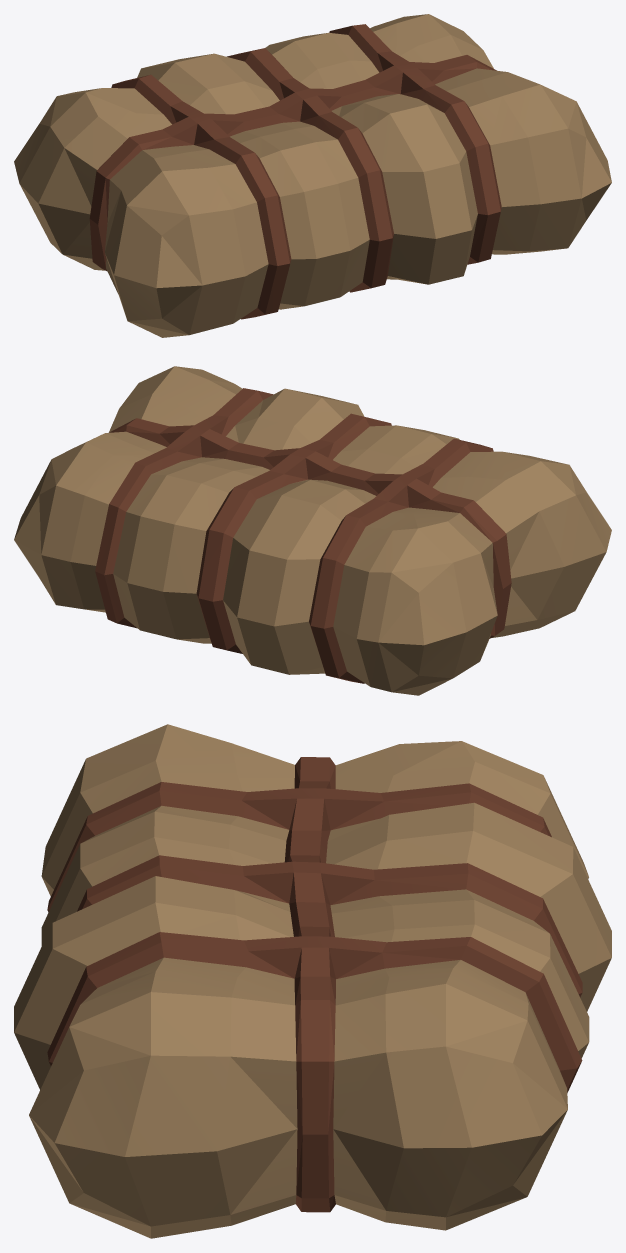
Rendered from Pan.glb.
3 renders of one model, top to bottom at view 1: azimuth 30°, elevation 25°; view 2: azimuth 150°, elevation 25°; view 3: azimuth 270°, elevation 25°, orthographic. The views are drawn at different scales.
Visible parts, largest first — view 1: SM_Prop_Fur_Roll_03; view 2: SM_Prop_Fur_Roll_03; view 3: SM_Prop_Fur_Roll_03.
Part boxes in pixels (<box>): SM_Prop_Fur_Roll_03: <box>14,14,611,337</box>; SM_Prop_Fur_Roll_03: <box>14,366,611,695</box>; SM_Prop_Fur_Roll_03: <box>14,724,611,1238</box>.
Bounding box in the file's own units: 1.72 × 0.5852 × 1.24.
1 material, 1 textured.
